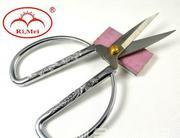scissor: (9, 9, 177, 138)
